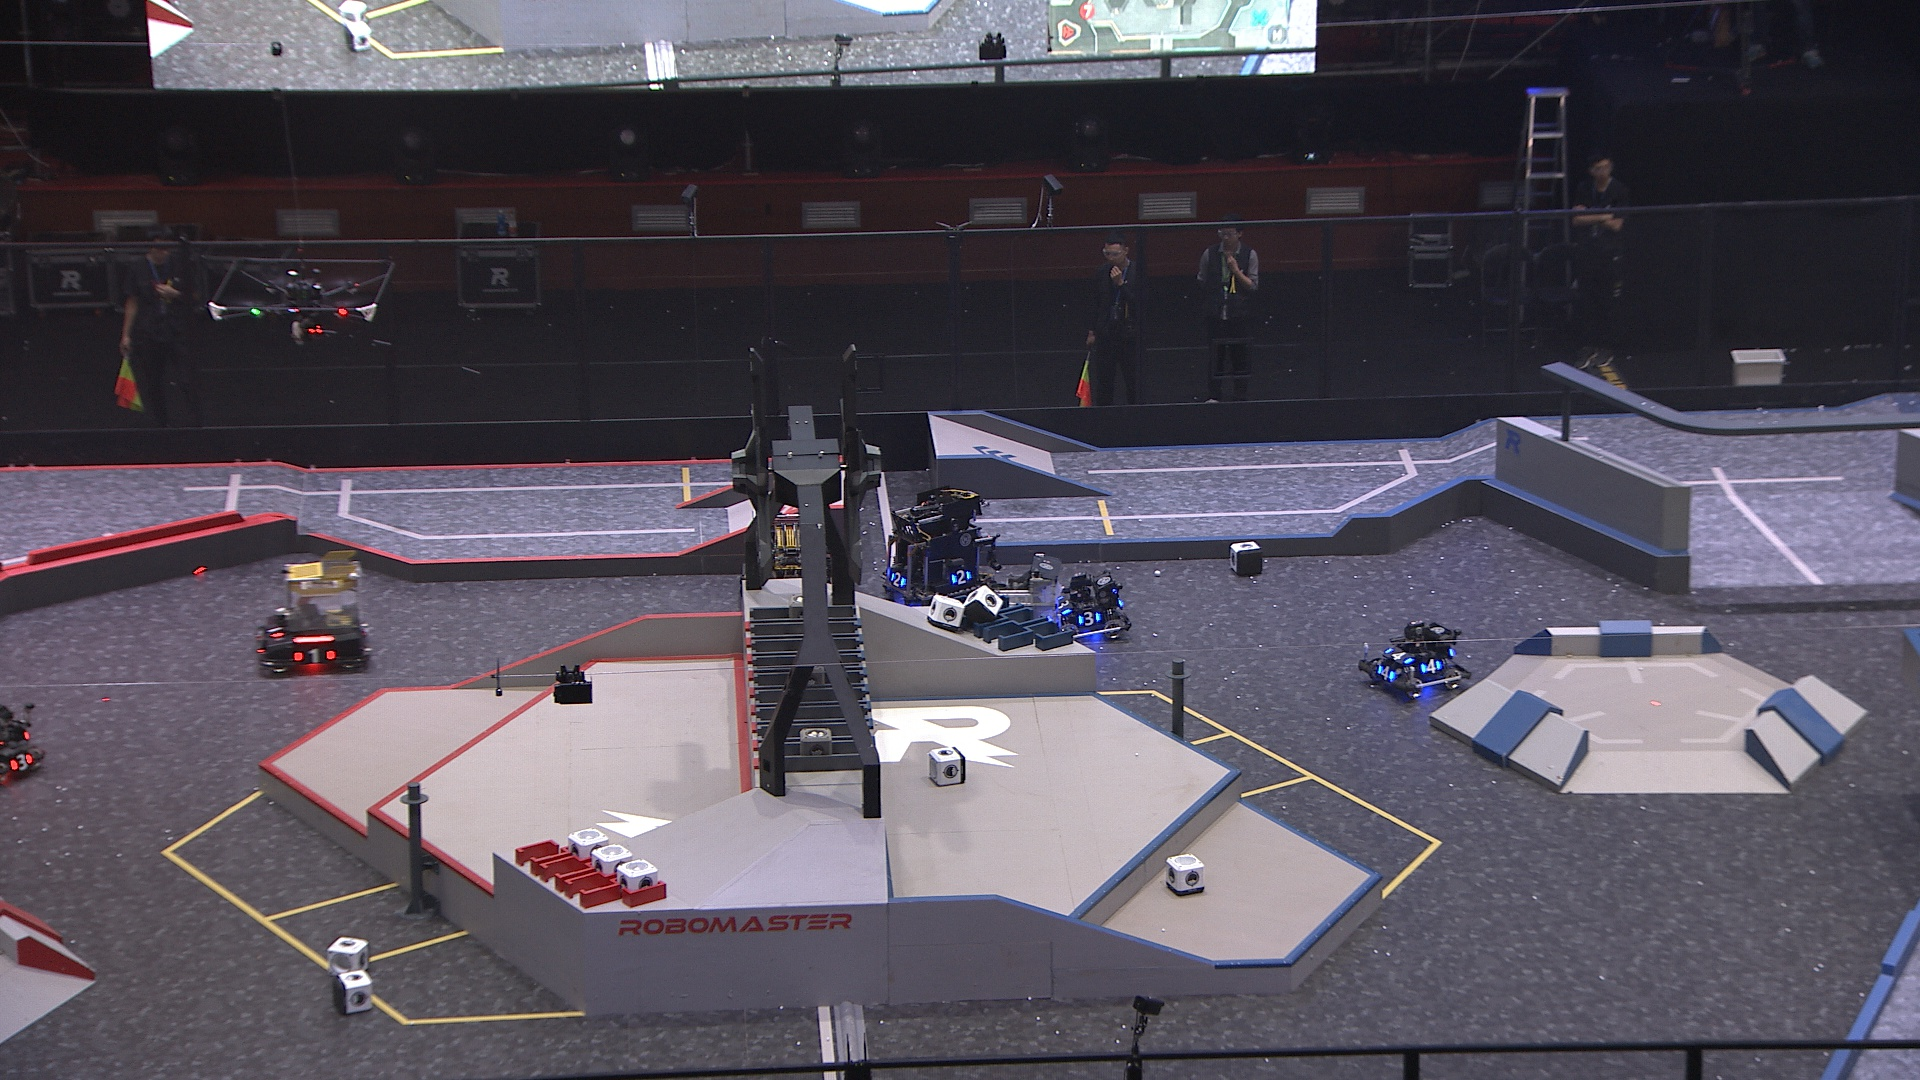armor: (294, 647, 338, 666), (264, 618, 284, 641), (8, 752, 32, 770), (1385, 647, 1410, 665), (1420, 655, 1443, 674), (1077, 609, 1101, 626), (1058, 595, 1072, 618), (887, 571, 907, 588), (1375, 665, 1396, 680), (951, 570, 972, 585)
car: (880, 487, 1007, 622), (253, 550, 376, 680), (744, 510, 849, 632), (1358, 618, 1470, 698), (988, 551, 1069, 651), (1048, 568, 1131, 644)
